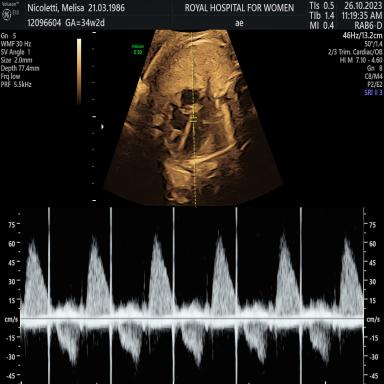Ultrasound-Waves: (27, 208, 362, 384)
